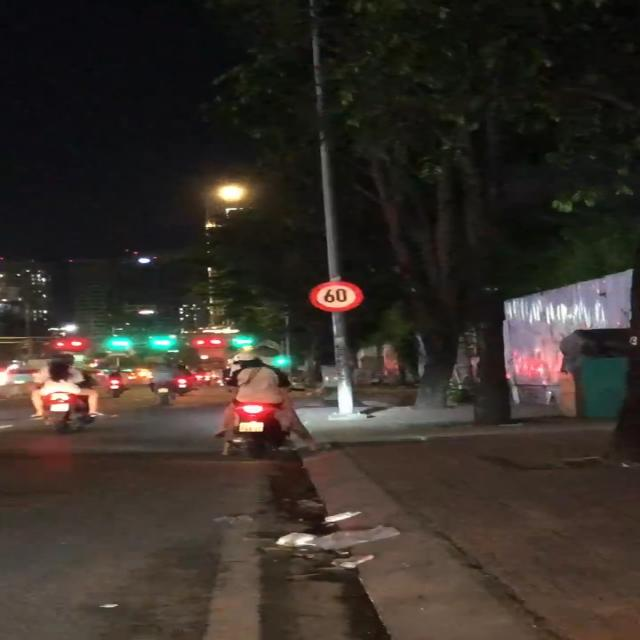Bien bao toc do toi da cho phep: (308, 278, 369, 314)
